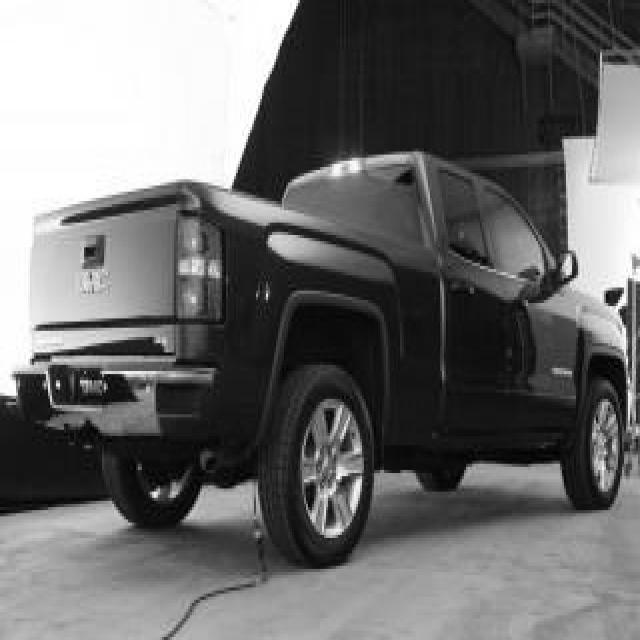Car: (16, 151, 629, 563)
